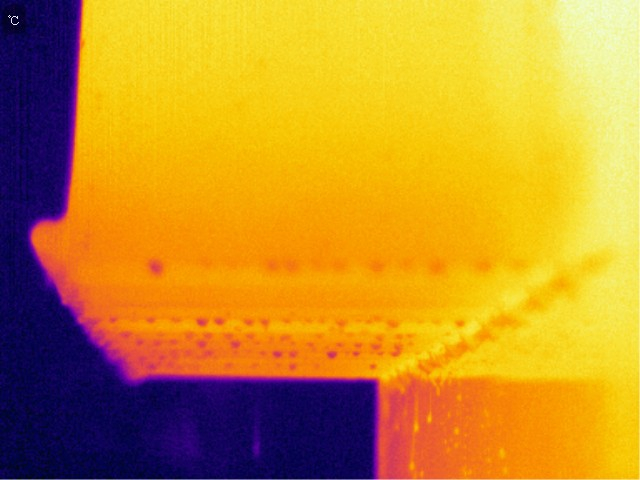Water: (367, 329, 387, 358), (389, 330, 406, 361), (184, 330, 210, 348), (146, 257, 164, 281), (256, 313, 275, 327), (195, 309, 208, 327), (268, 348, 285, 361), (227, 336, 241, 351), (334, 315, 350, 327), (325, 349, 339, 362), (142, 313, 158, 324), (286, 347, 300, 359), (214, 314, 228, 326), (106, 314, 122, 324), (242, 316, 255, 328), (288, 360, 295, 373)
